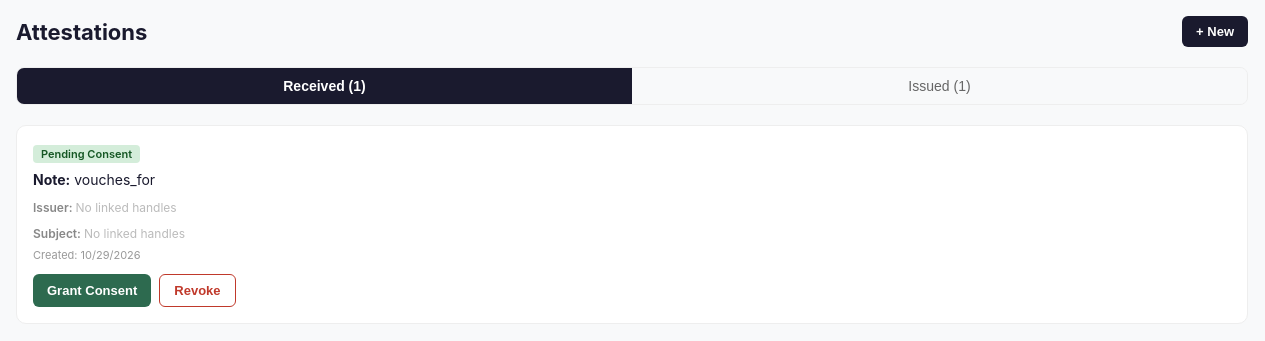
Scenario: Attestations page › switching to "Issued" tab shows issued attestations
Check: the text "Note: vouches_for" is shown, box left=33, top=171, right=155, bottom=188
Click the button "Issued (1)".
click(940, 86)  # box left=632, top=68, right=1247, bottom=104
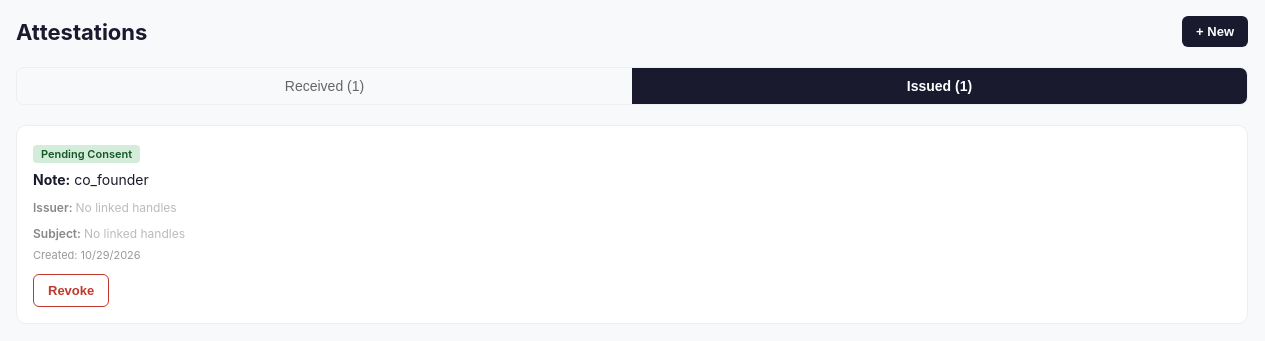
Check: the text "Note: co_founder" is shown, box left=33, top=171, right=149, bottom=188
